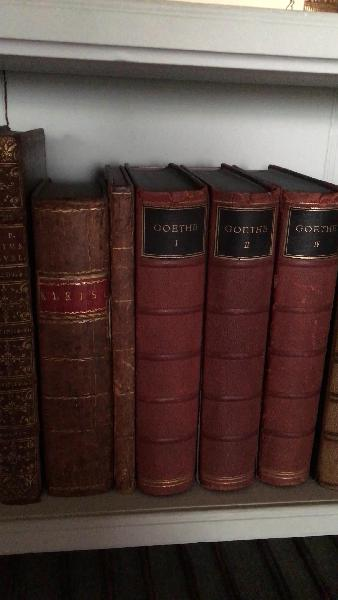Aa6-10: (104, 188, 142, 503)
Aa6-11_13: (137, 195, 338, 493)
Aa6-8: (1, 122, 47, 505)
Aa6-9: (33, 195, 113, 499)
